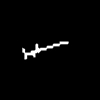double_crochet: (23, 42, 67, 58)
